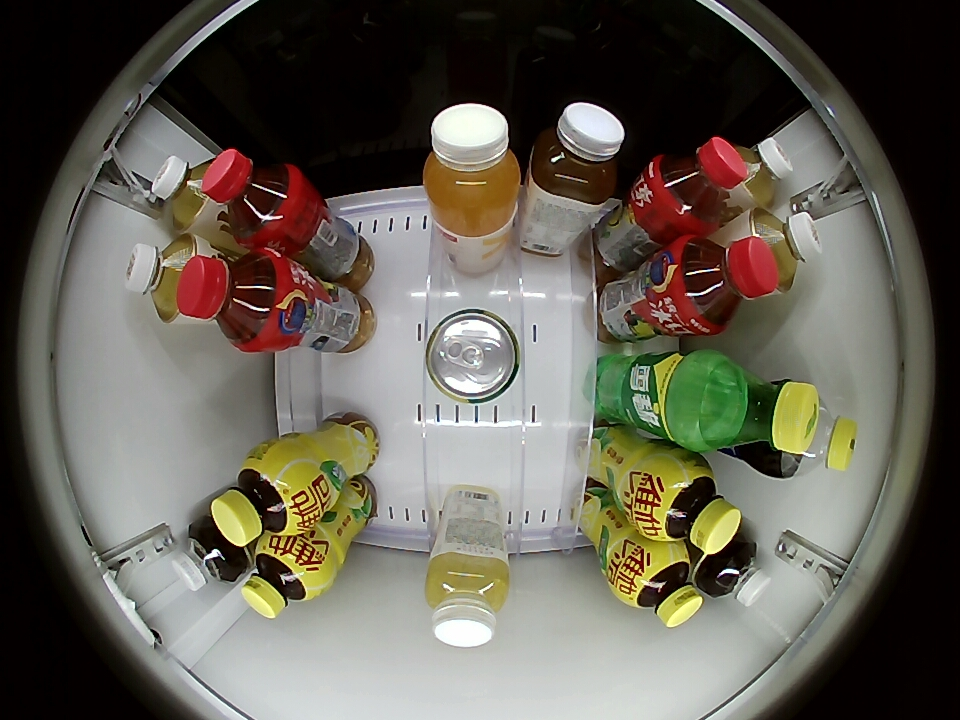baishikele: (775, 397, 857, 478)
binghongcha: (176, 249, 287, 351), (672, 234, 779, 335), (199, 147, 304, 246), (646, 135, 747, 234)
chapai: (527, 102, 625, 206)
chapai2: (425, 550, 510, 647)
rancha-2: (125, 235, 202, 323), (747, 208, 822, 293), (151, 154, 218, 233), (730, 137, 793, 209)
weic: (423, 103, 521, 235)
weitaningmeng-bottle: (211, 447, 316, 547), (640, 456, 743, 555), (620, 546, 703, 629), (242, 537, 326, 619)
wulongcha: (172, 521, 242, 592), (701, 540, 772, 607)
xuebi-b: (716, 361, 820, 466)
xuebi2: (425, 309, 520, 405)
